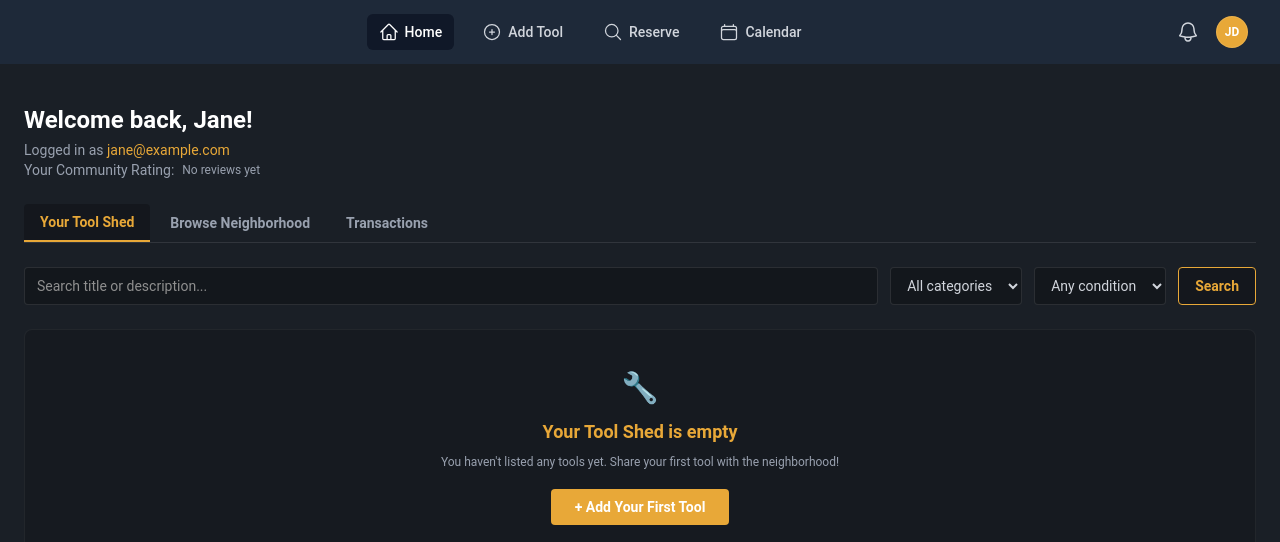
Scenario: Dashboard › shows the empty transactions state on the transactions tab
The image size is (1280, 542).
Expected: the heading "Welcome back, Jane!" is shown, [24,104,260,136]
Step 1. Click the button "Transactions" → (387,223), box [330,204,444,242]
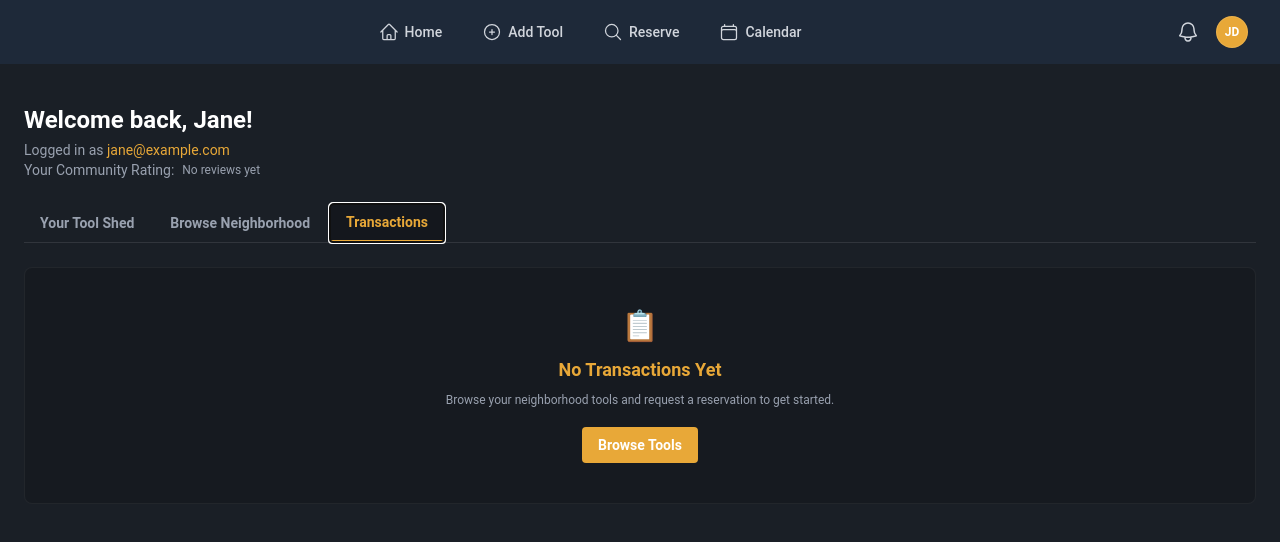
Now the heading "No Transactions Yet" is shown, box [558,359,722,380]
